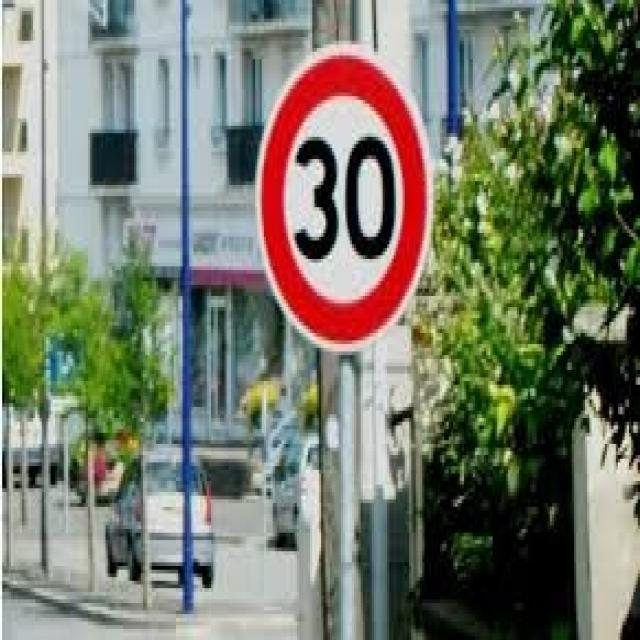speed_limit_30: (250, 41, 437, 353)
